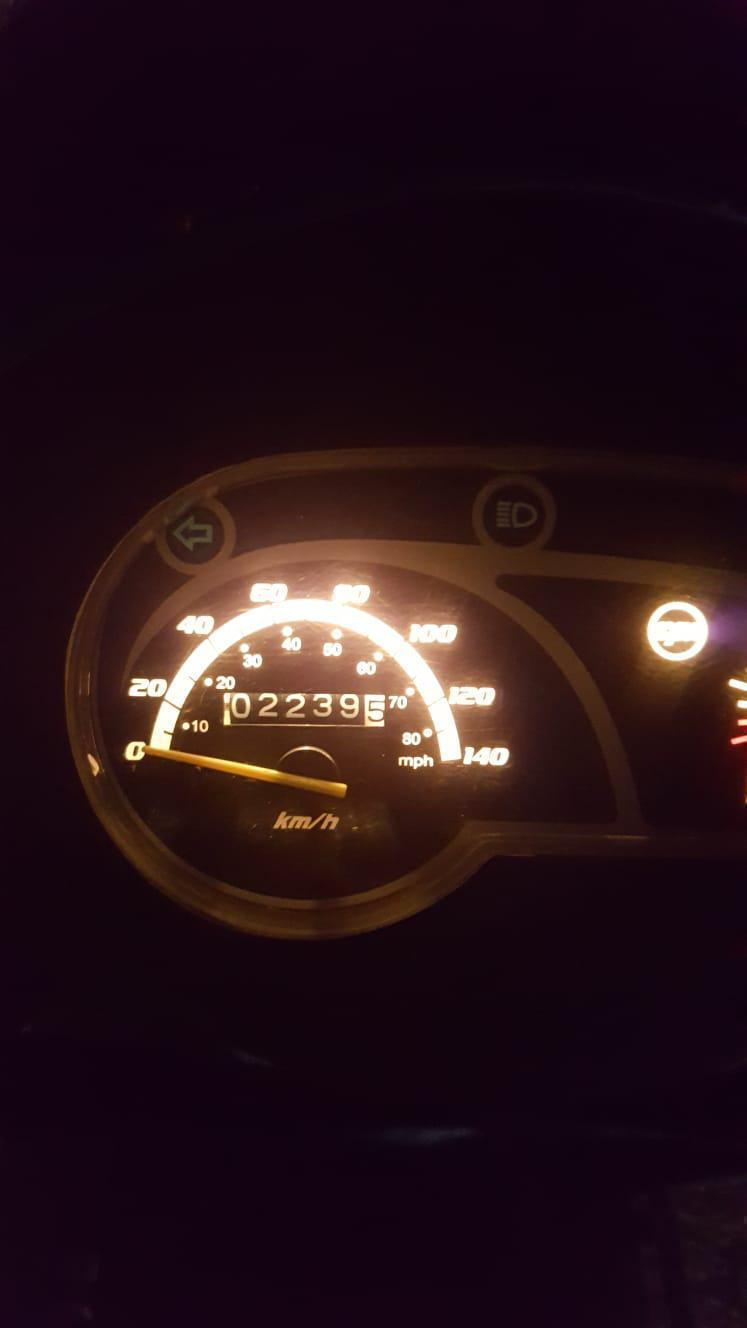0: (230, 691, 252, 719)
2: (255, 692, 277, 719), (284, 692, 306, 719)
3: (311, 692, 333, 720)
5: (366, 699, 384, 726)
9: (337, 691, 359, 719)
odometer: (220, 687, 388, 730)
